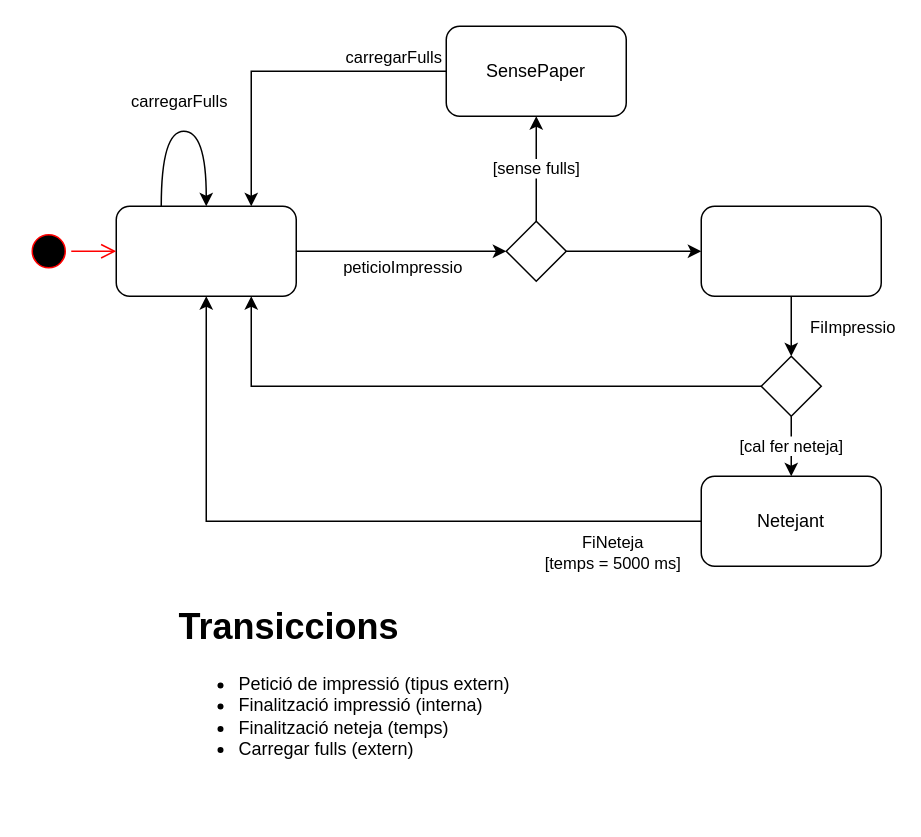
Some shapes in this 921 by 837 pixel diagram are drawn without their labels. Here are the shapes that lost their labels. From the top down, the box of each, then its label:
(115, 205, 296, 296): StandBy
(700, 205, 881, 296): Imprimint
